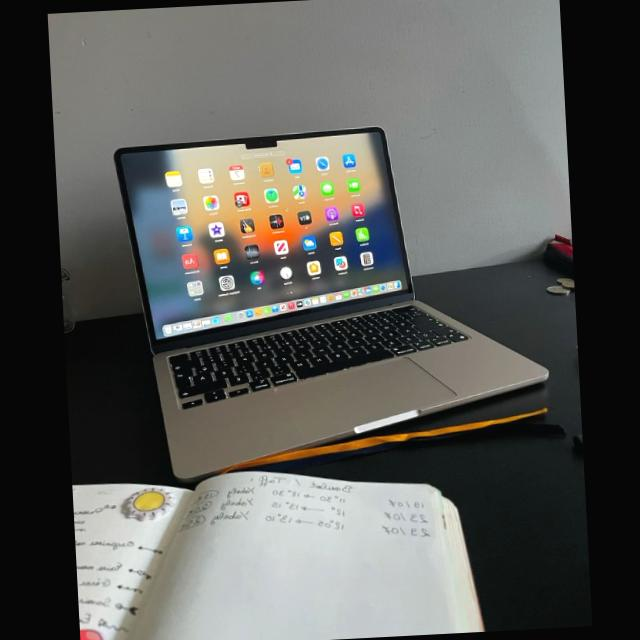laptop: (116, 127, 548, 479)
